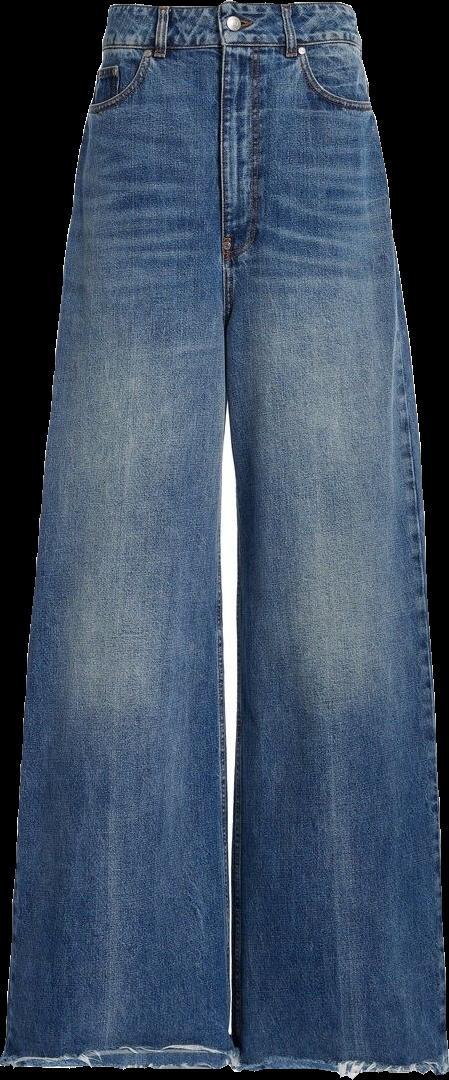Hemline: (4, 1051, 231, 1071), (234, 1056, 448, 1077)
Pantleg: (1, 3, 230, 1069), (221, 3, 447, 1074)
Waistline: (101, 33, 361, 59), (108, 0, 350, 19)
